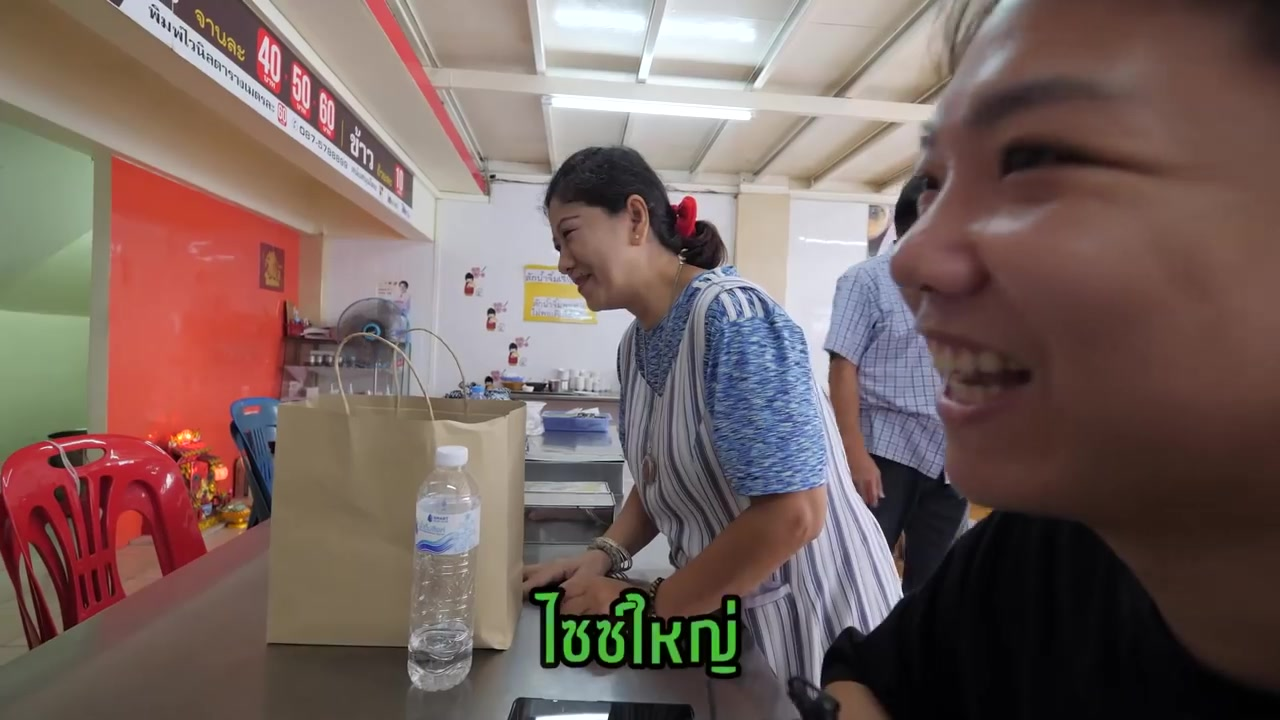text-label: (523, 583, 748, 681)
